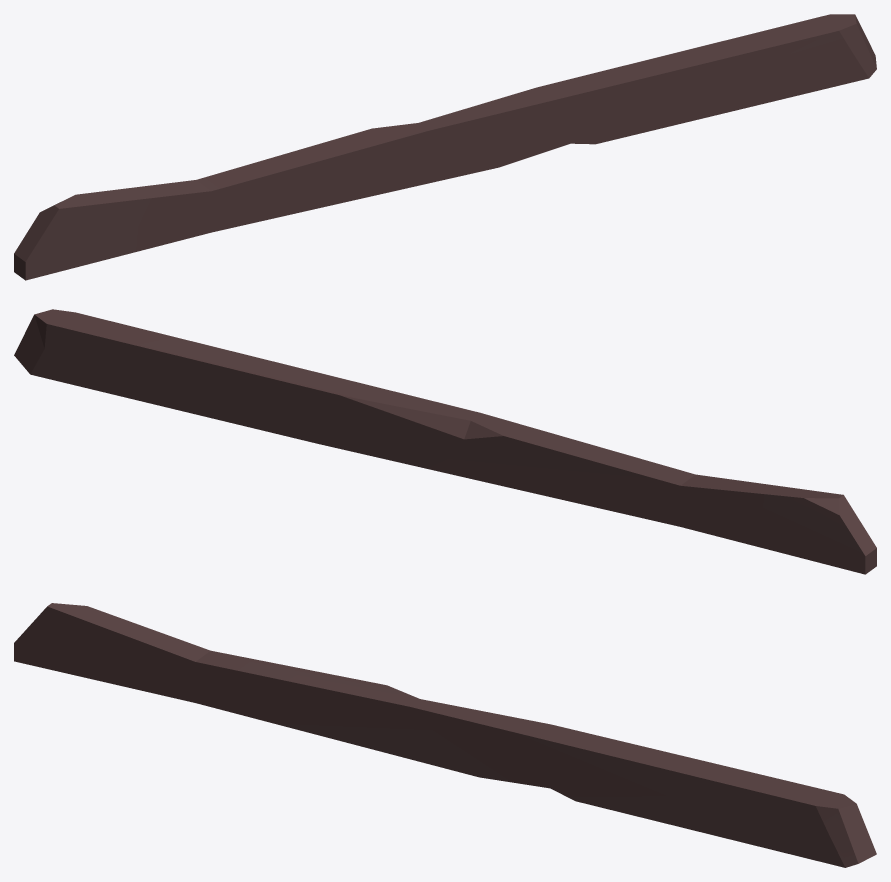
File: wood_9.FBX
3 renders of one model, top to bottom at view 1: azimuth 30°, elevation 25°; view 2: azimuth 150°, elevation 25°; view 3: azimuth 330°, elevation 25°, orthographic.
Visible parts, largest first — view 1: wood_9; view 2: wood_9; view 3: wood_9.
Part boxes in pixels (x1=…): wood_9: x1=14, y1=14, x2=876, y2=280; wood_9: x1=14, y1=309, x2=876, y2=574; wood_9: x1=14, y1=603, x2=876, y2=867.
Size of the model in its own units: 87.33 by 6.17 by 3.39.
